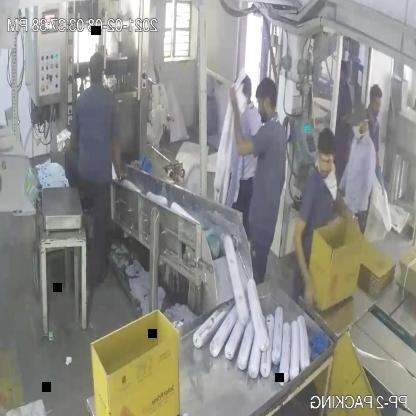no_glove: (289, 204, 314, 305), (224, 90, 256, 164)
